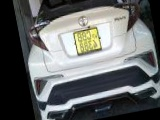car: (15, 0, 160, 120)
